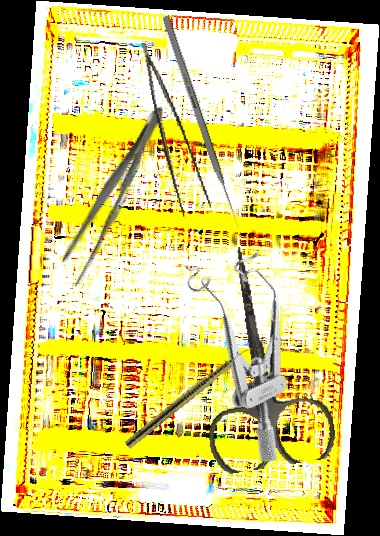Dressing Forceps: (51, 98, 175, 291)
Handpiece: (123, 341, 256, 451)
Iris Scissors: (179, 236, 339, 477)
Pusher: (161, 15, 242, 229)
Speculum: (165, 233, 347, 466)
Tissue Forceps: (140, 36, 213, 221)
